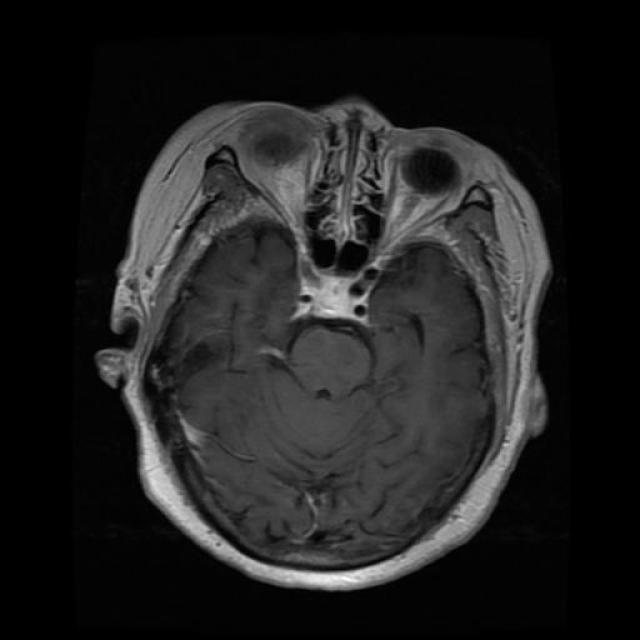pituitary: (283, 258, 370, 367)
